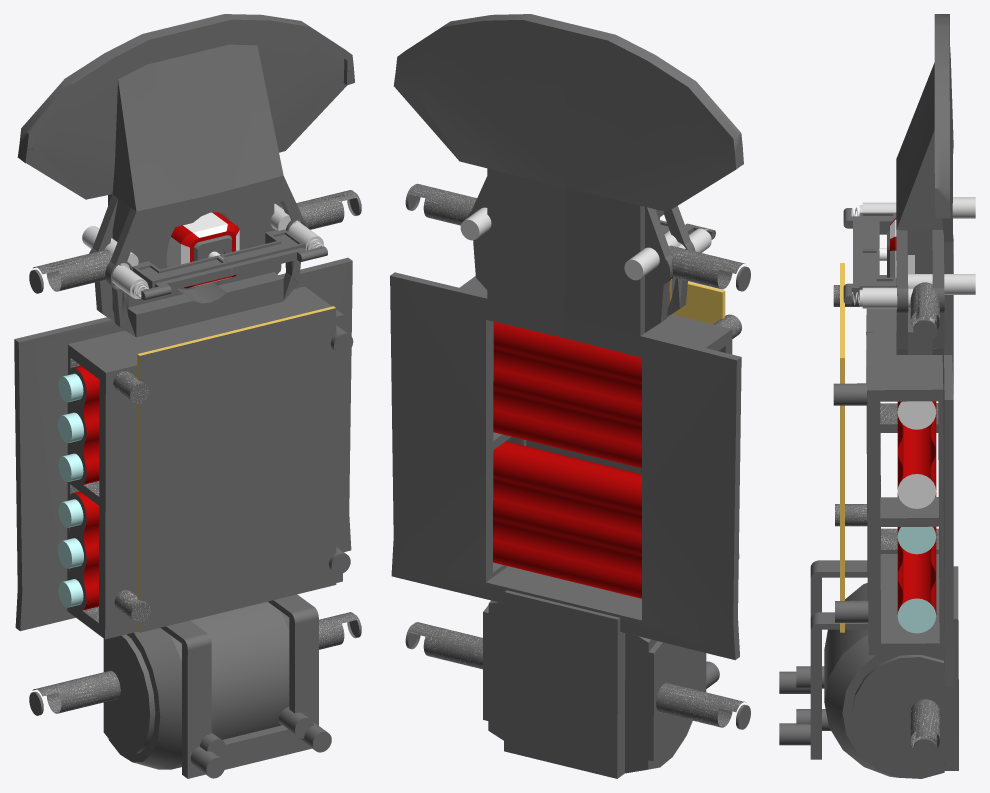
The model's file is body.obj.
The picture shows the model from 3 angles, left to right: view 1: azimuth 30°, elevation 25°; view 2: azimuth 150°, elevation 25°; view 3: azimuth 270°, elevation 25°; orthographic projection. The views are drawn at different scales.
Parts seen in each view (by area): view 1: instance_4_ID584; view 2: instance_4_ID584; view 3: instance_4_ID584.
Boxes of the visible parts, x1,y1,x2,y2 form: instance_4_ID584: [14, 14, 361, 778]; instance_4_ID584: [390, 14, 750, 778]; instance_4_ID584: [779, 14, 975, 778].
Bounding box in the file's own units: 3.1 × 6.31 × 1.59.
